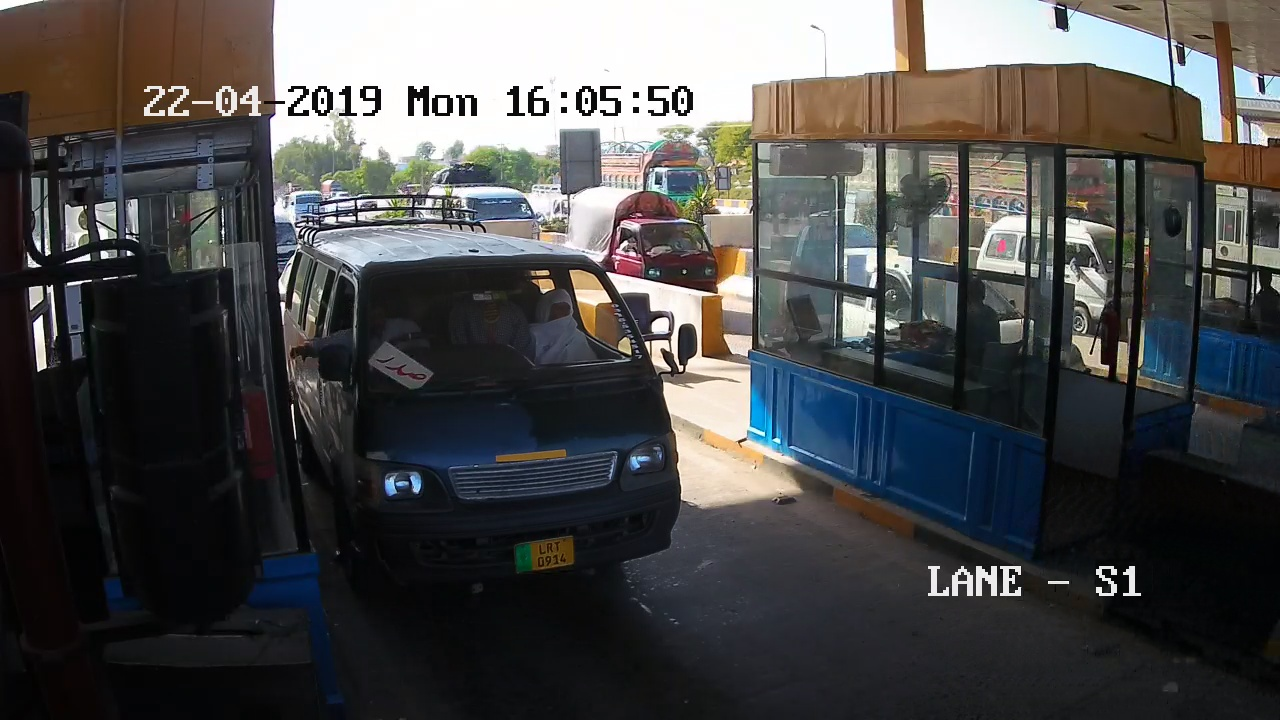Number Plate (Car): (514, 537, 576, 569)
